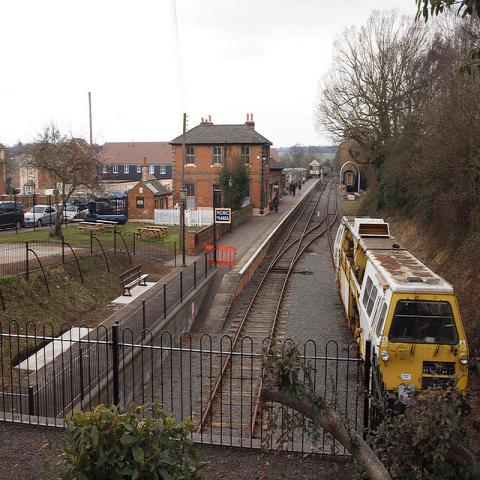car: (24, 205, 57, 227), (0, 202, 24, 228), (66, 196, 88, 211), (66, 206, 86, 219), (109, 192, 124, 200), (17, 192, 30, 195)
